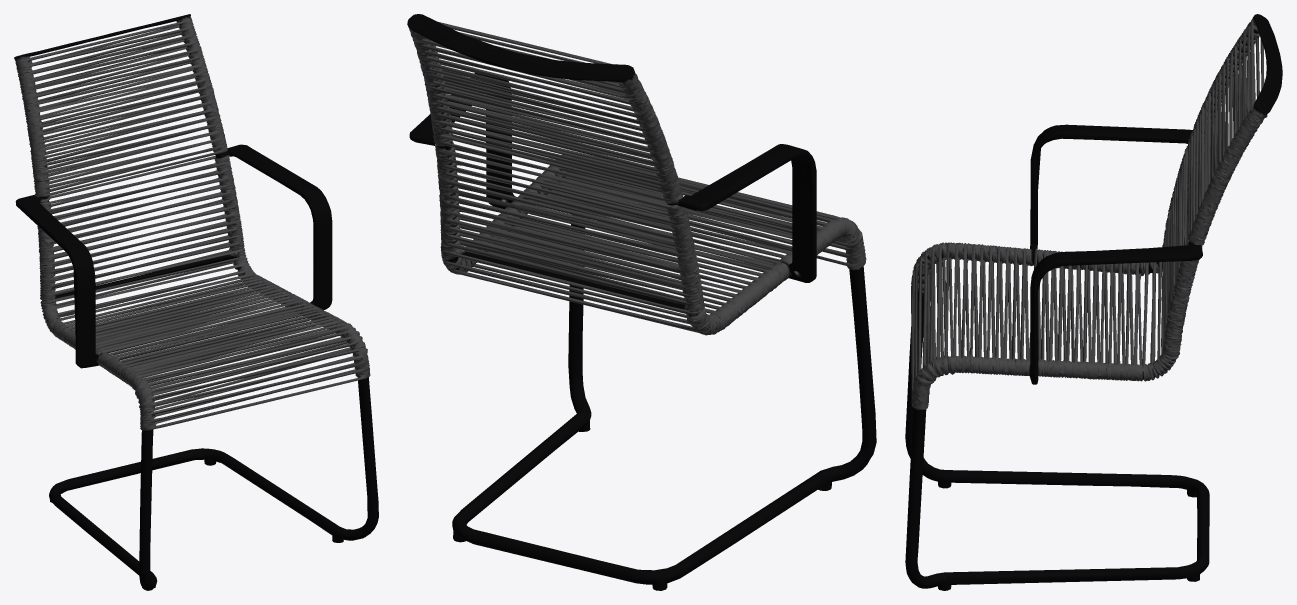
File: 02 - VÄSMAN - 戶外扶手椅，黑色 IKEA 線上購物.glb
3 views of the same model, side by side, from view 1: azimuth 30°, elevation 25°; view 2: azimuth 150°, elevation 25°; view 3: azimuth 270°, elevation 25° (orthographic). The views are drawn at different scales.
Parts seen in each view (by area): view 1: ProcessedMeshNode; view 2: ProcessedMeshNode; view 3: ProcessedMeshNode.
Boxes of the visible parts, box(x1,y1,x2,y2) form: ProcessedMeshNode: box(14, 14, 378, 590); ProcessedMeshNode: box(407, 14, 876, 590); ProcessedMeshNode: box(905, 14, 1282, 590).
Bounding box in the file's own units: 0.5662 × 0.9052 × 0.6478.
1 material, 1 textured.
